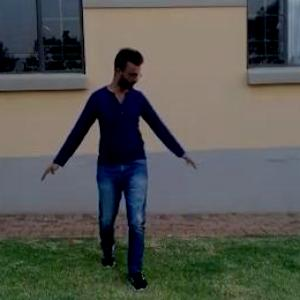land: (36, 30, 227, 276)
